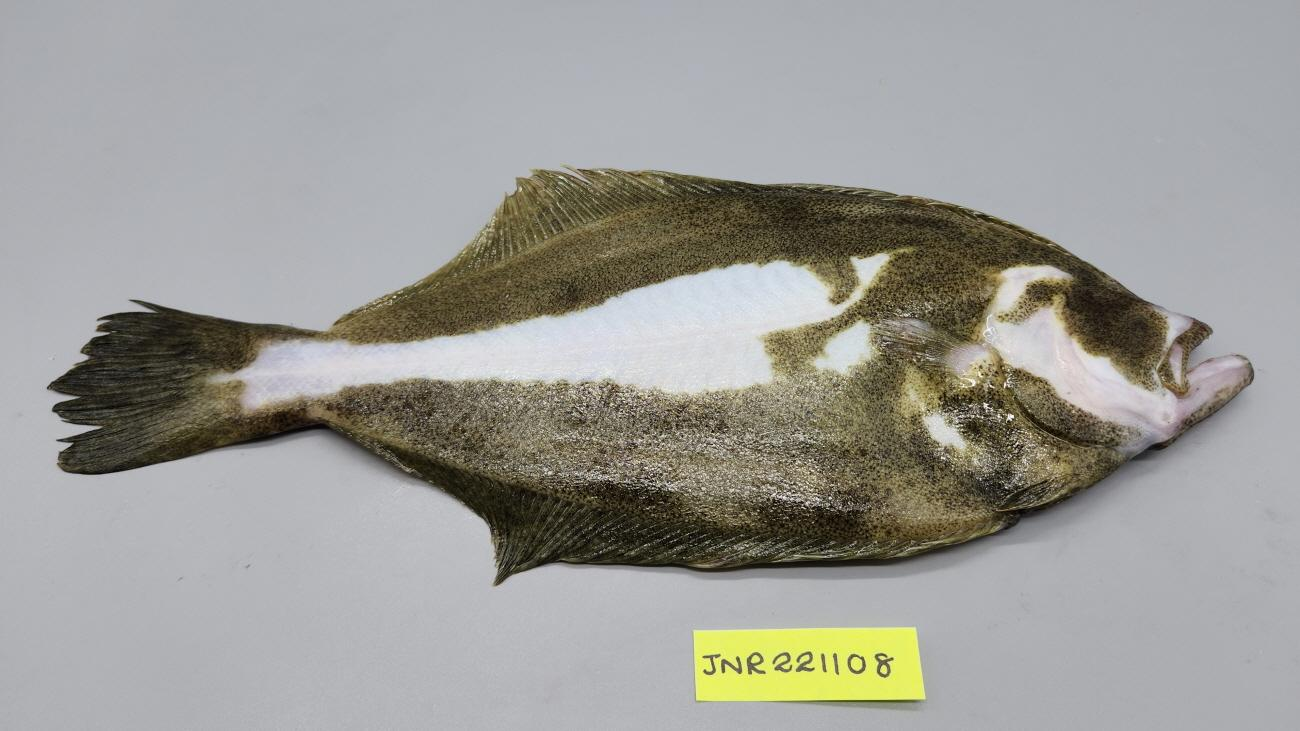POOUN: (46, 160, 1257, 592)
